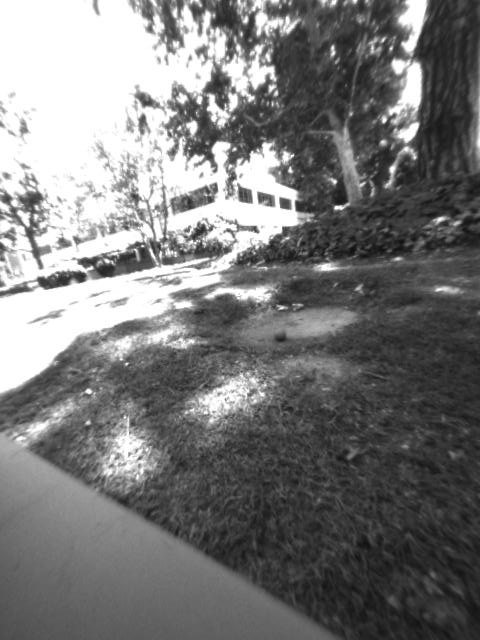dogtoy: (266, 324, 293, 348)
